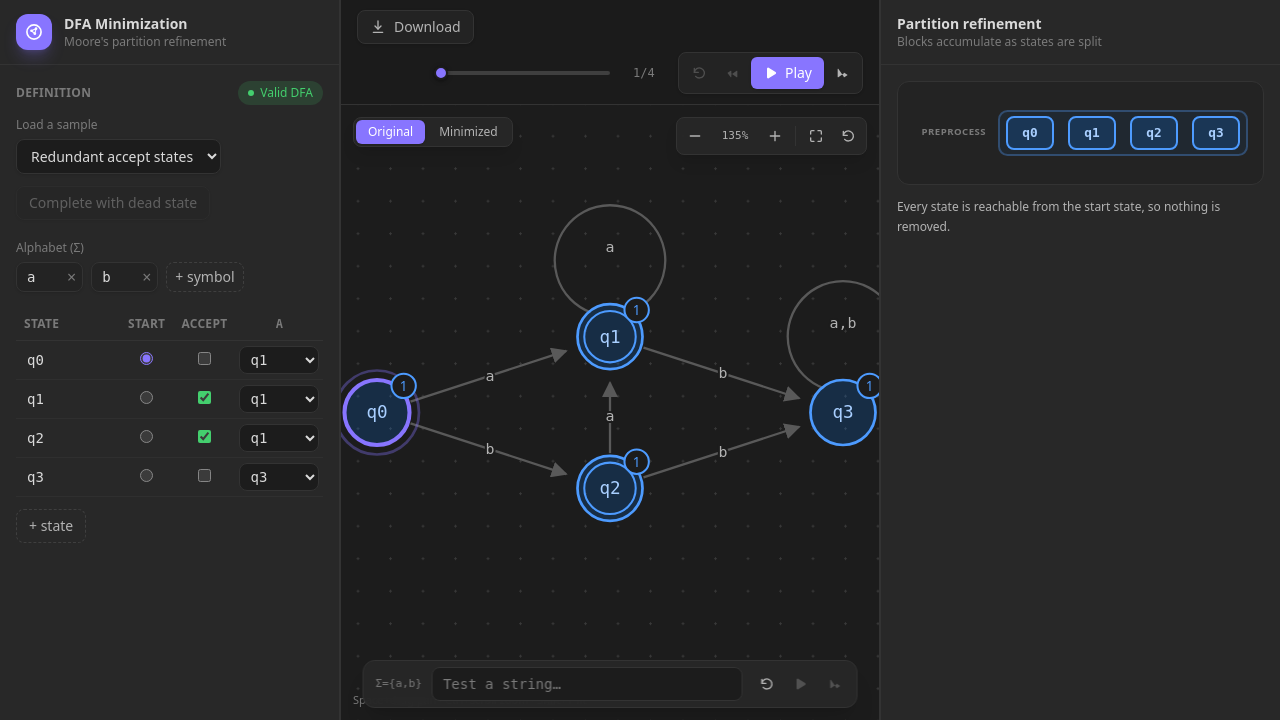
it: App › simulates an input string against the automaton
Type "aa" into the field named "input string" at (587, 684), box x1=432 y1=667 x2=742 y2=701
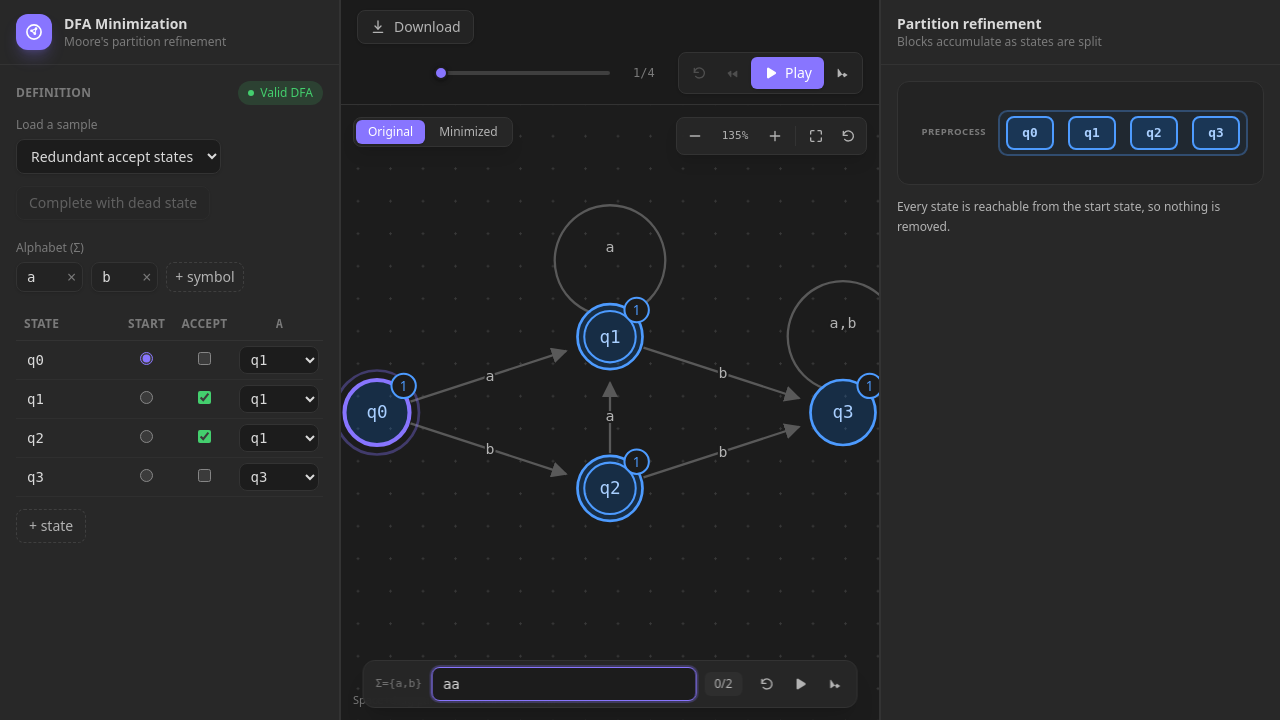
Click the button named "step simulation" at (834, 684), box x1=818 y1=668 x2=850 y2=700
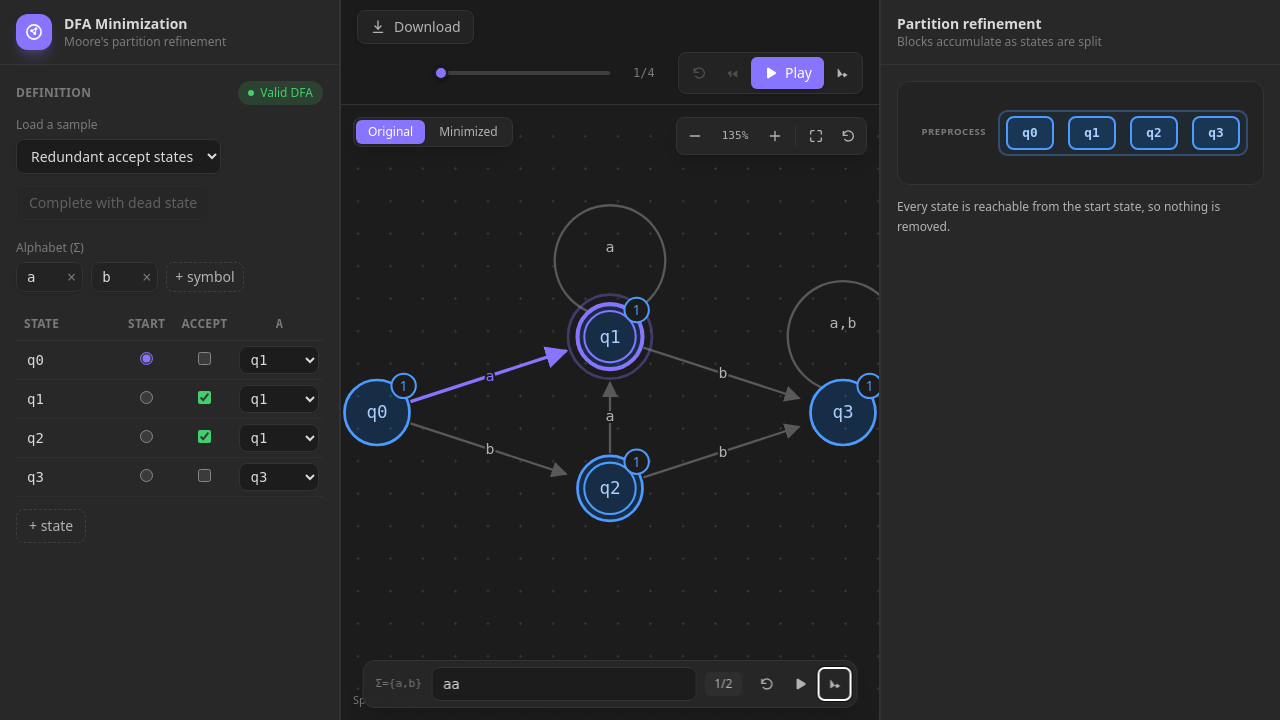
Click the button named "step simulation" at (834, 684), box x1=818 y1=668 x2=850 y2=700
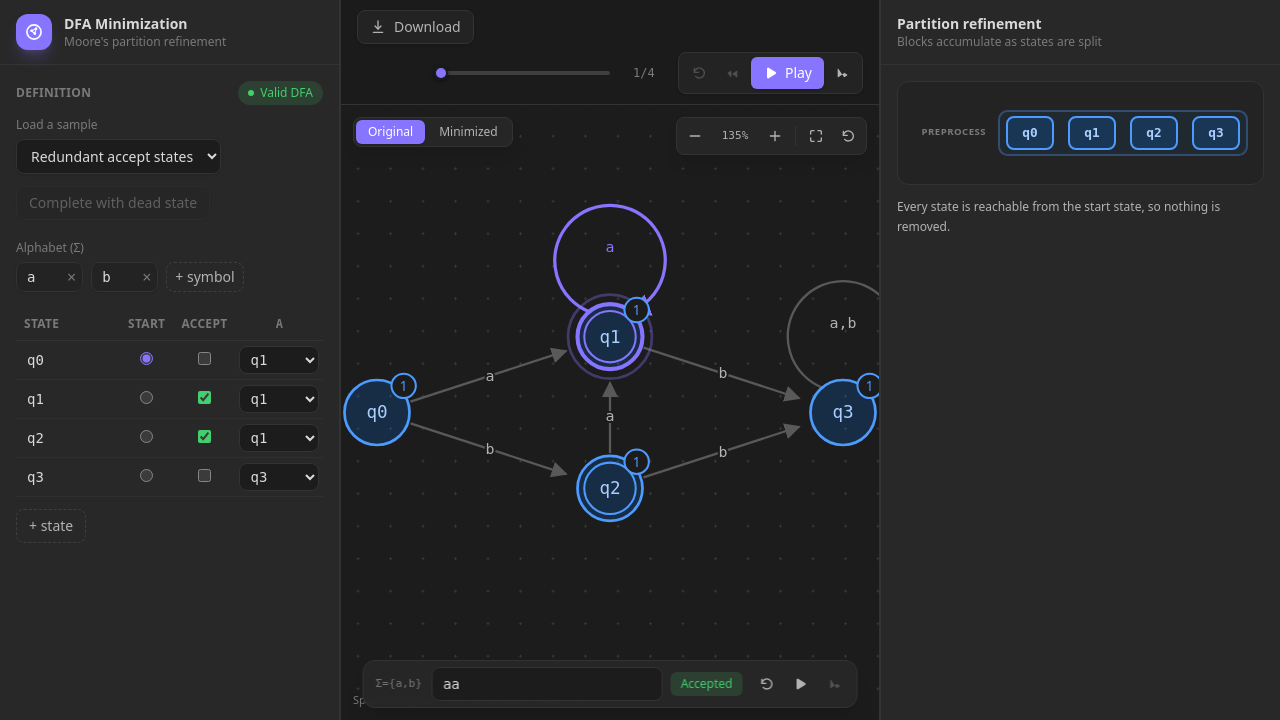
Expected: the text "Accepted" is shown, x1=671 y1=672 x2=742 y2=696
